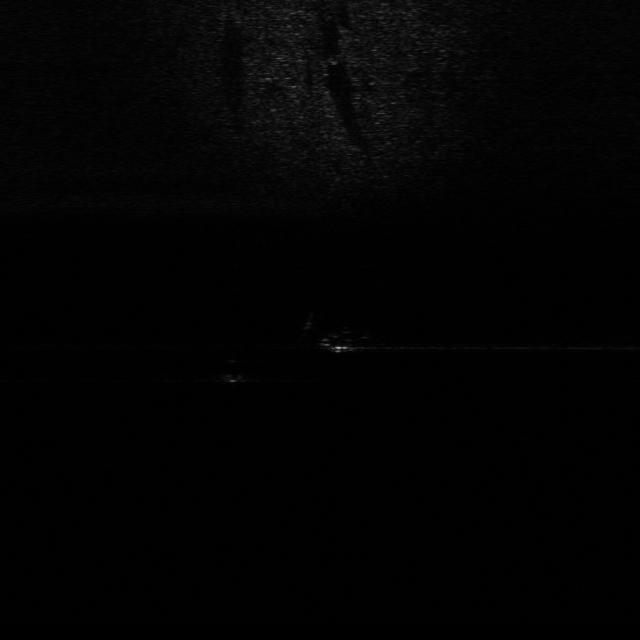ball: (218, 357, 251, 386)
human body: (301, 308, 388, 354)
